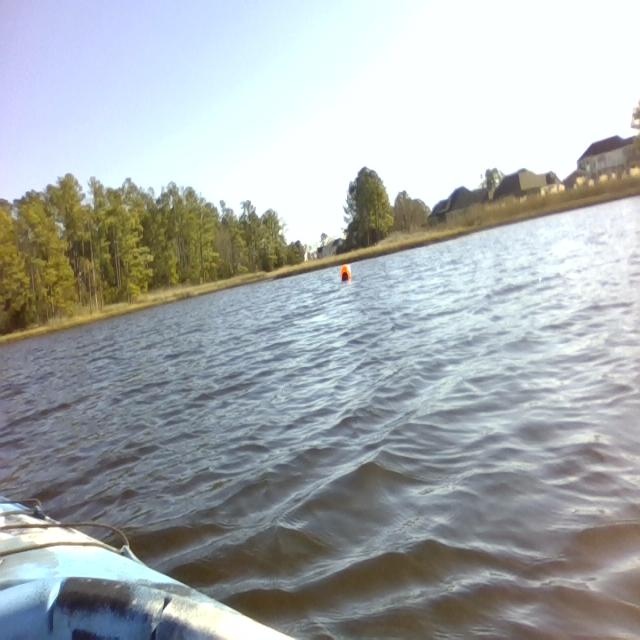Buoy: (335, 261, 358, 286)
